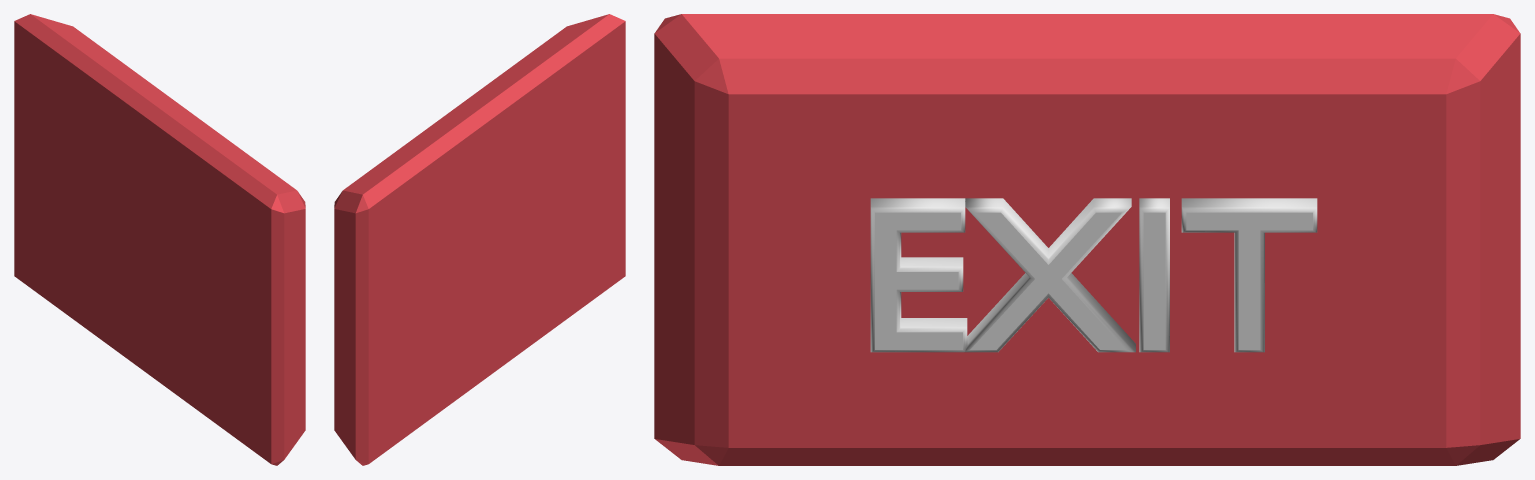
3 renders of one model, left to right at view 1: azimuth 30°, elevation 25°; view 2: azimuth 150°, elevation 25°; view 3: azimuth 270°, elevation 25°, orthographic. The views are drawn at different scales.
Parts seen in each view (by area): view 1: Cube.002-col; view 2: Cube.002-col; view 3: Cube.002-col, Text.002.
Part boxes in pixels (bbox=[...]): Cube.002-col: bbox=[14, 14, 305, 465]; Cube.002-col: bbox=[334, 14, 625, 465]; Cube.002-col: bbox=[654, 14, 1520, 465]; Text.002: bbox=[870, 198, 1317, 352].
Size of the model in its own units: 0.5682 by 2.21 by 3.9.
